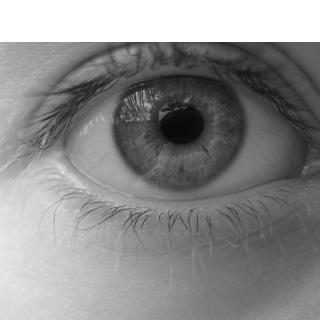pupil: (158, 100, 203, 145)
